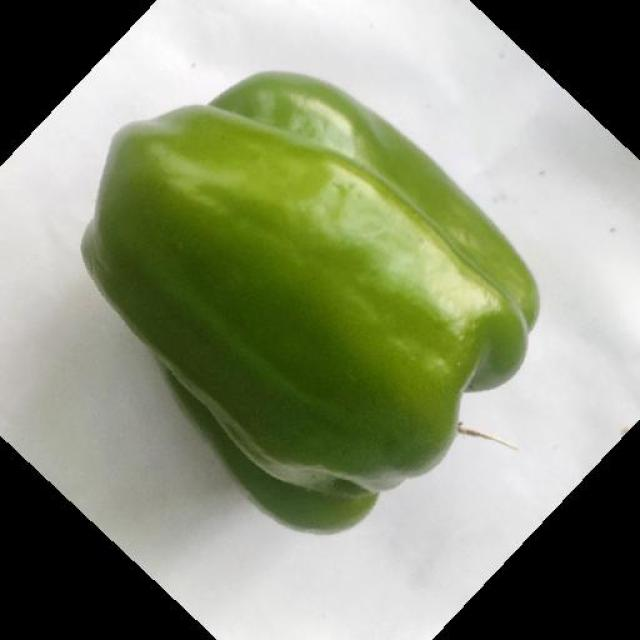Fresh_Capsicum: (109, 92, 517, 507)
